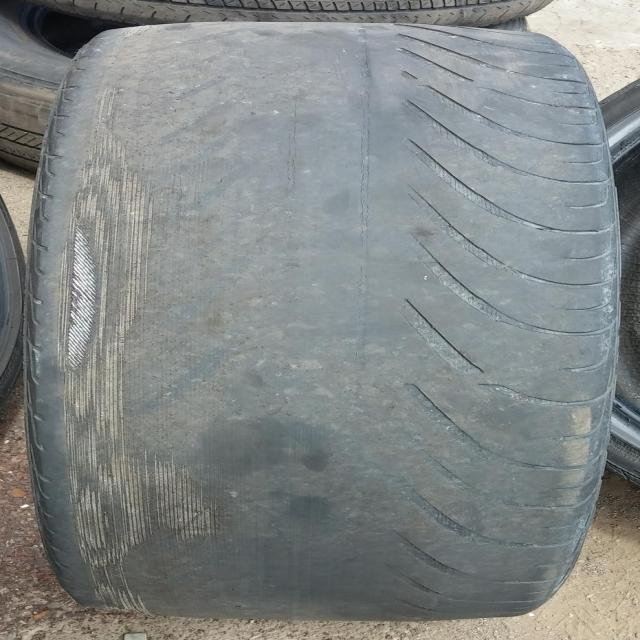Flat spots: (75, 29, 572, 610)
